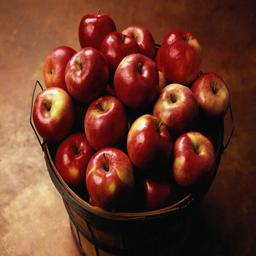Apple Fresh: (168, 118, 220, 198), (124, 108, 175, 182), (105, 45, 162, 109), (85, 144, 135, 212), (152, 26, 205, 88), (30, 80, 77, 147), (73, 12, 118, 55)
